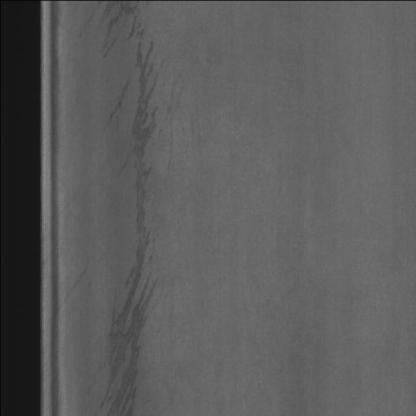water_spot: (97, 12, 173, 410)
